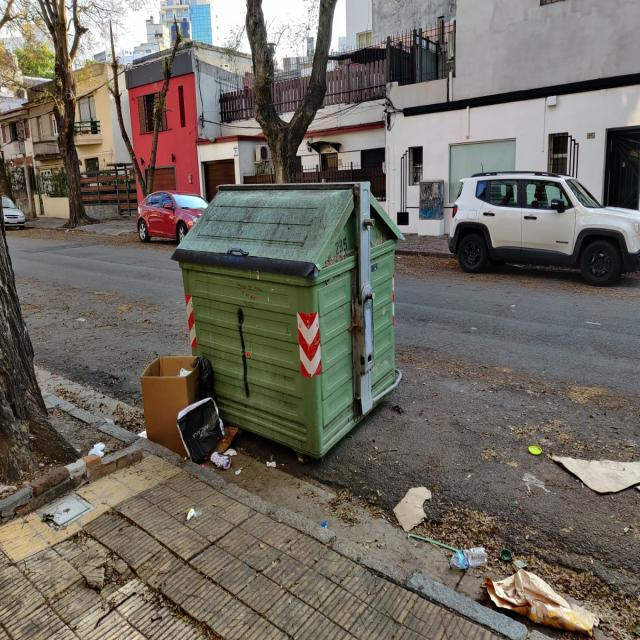garbage: (374, 468, 594, 640), (118, 340, 249, 476), (554, 440, 640, 500)
